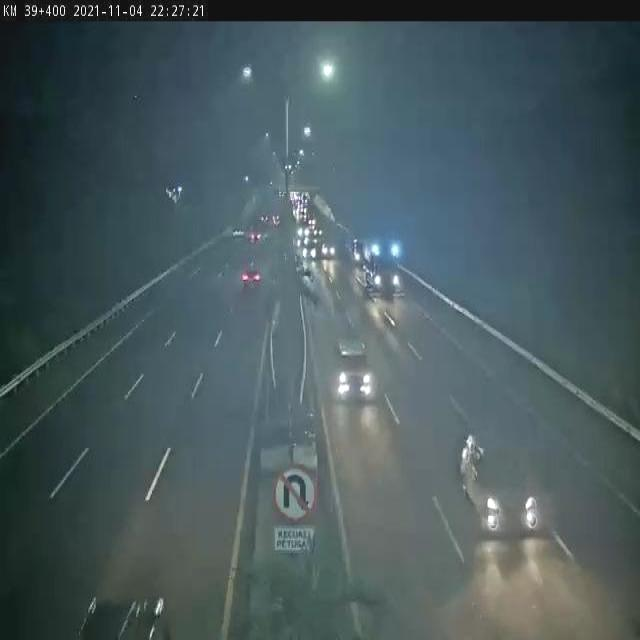Car: (460, 427, 546, 538), (338, 340, 378, 404), (242, 267, 262, 290), (248, 232, 265, 246), (320, 244, 336, 258), (302, 247, 318, 260), (298, 234, 310, 248), (296, 227, 311, 236), (314, 228, 324, 239)
Truck: (362, 227, 402, 297)
